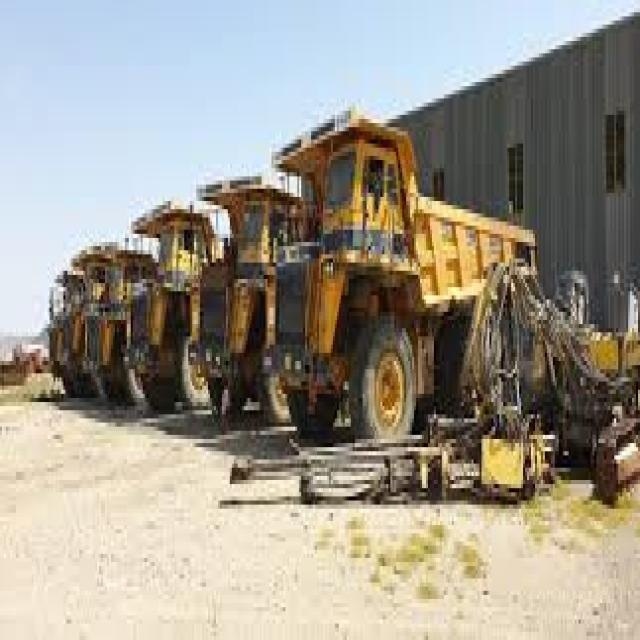buldozerpayloadergrader: (195, 179, 278, 434), (49, 270, 76, 402)
dump_truck: (273, 100, 540, 426), (78, 232, 136, 414)
excavator: (137, 214, 193, 430)
